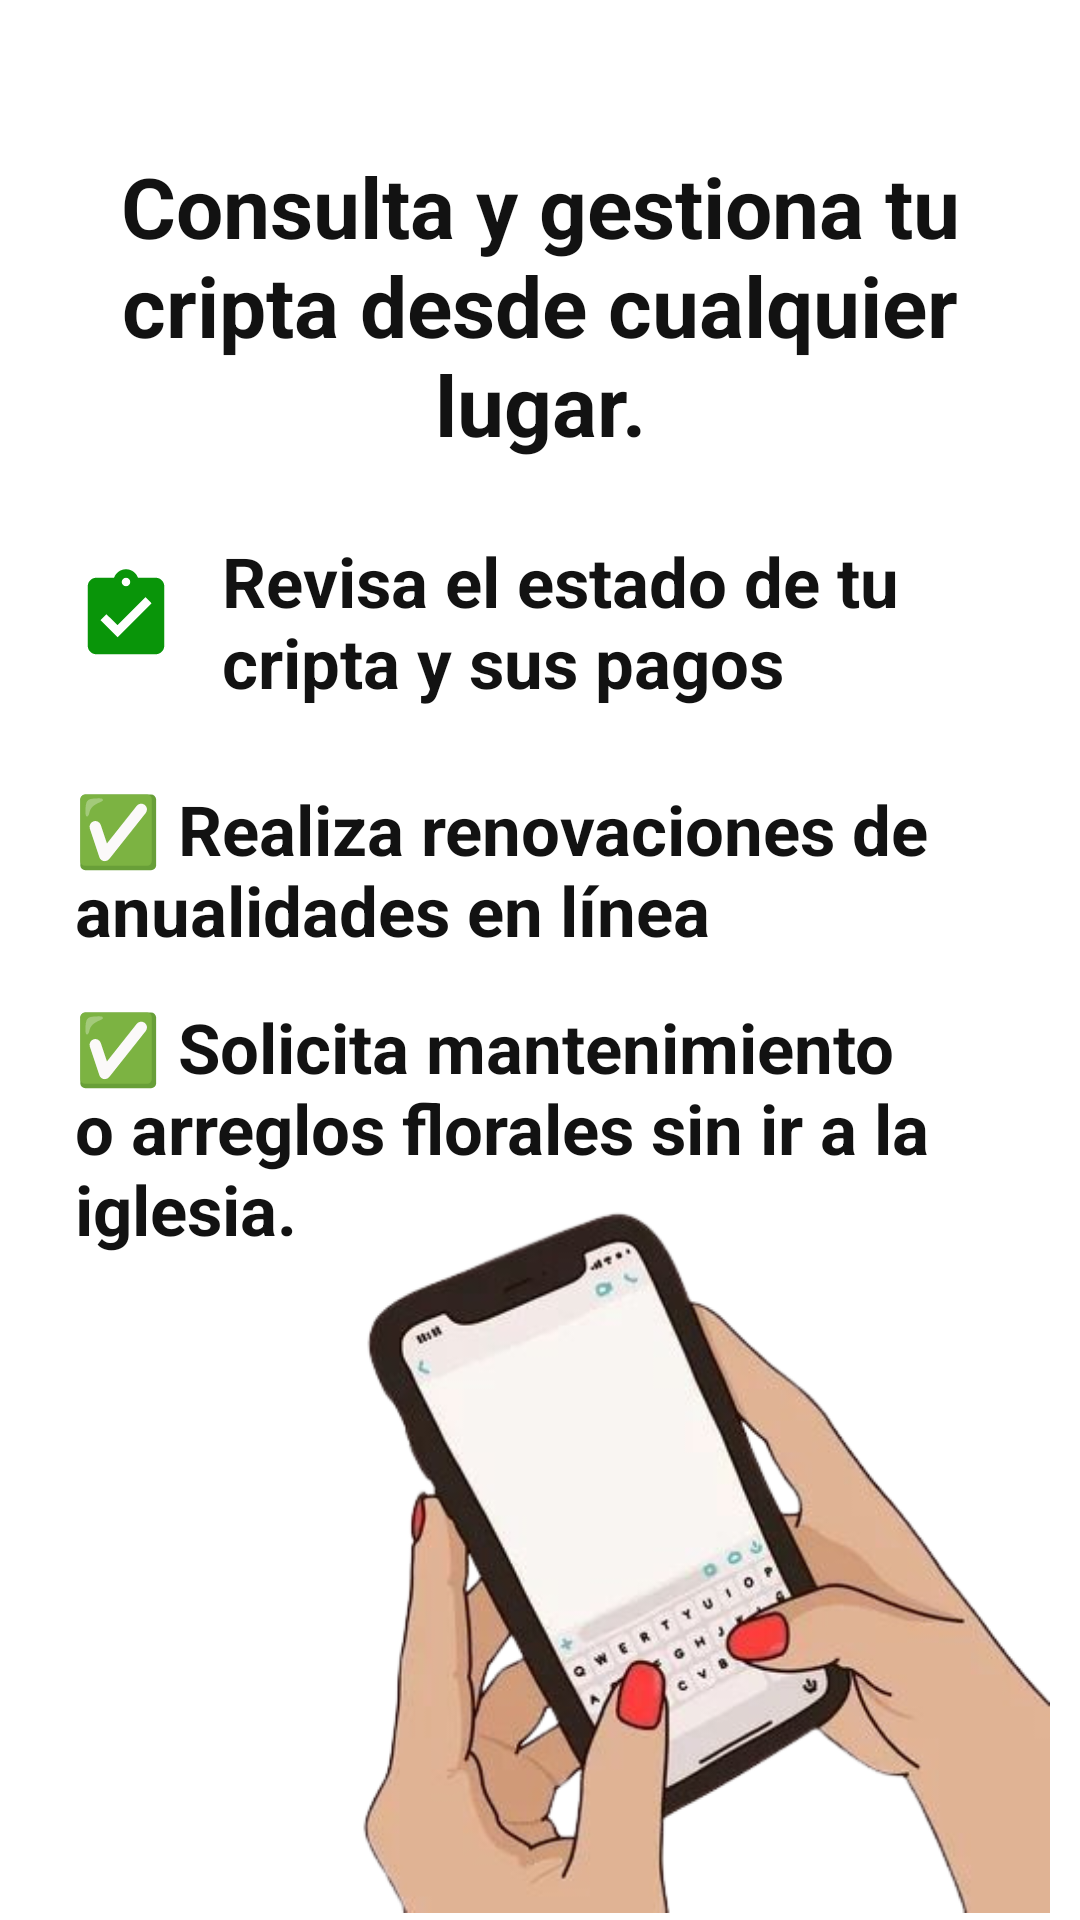

Screen size 1080*1920. Icon name, then its center in pixels as (x,y):
check: (126,612)
